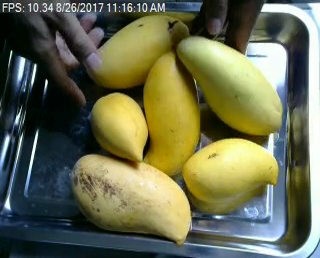Mango: (70, 154, 190, 246), (176, 36, 282, 133), (89, 15, 190, 89), (140, 51, 200, 173), (184, 138, 279, 202), (90, 92, 148, 164)
